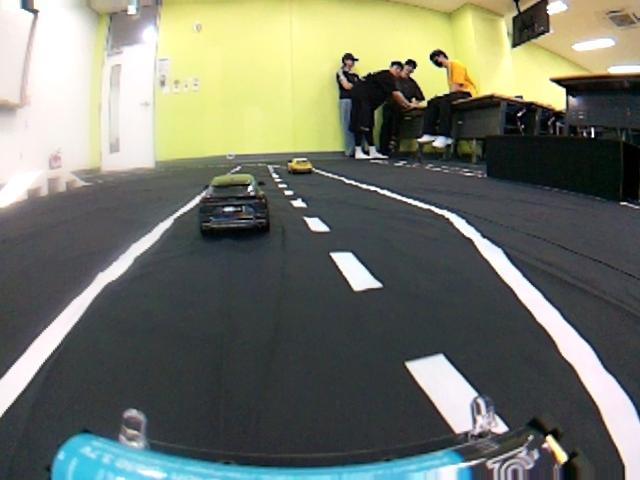car: (200, 173, 271, 237), (291, 158, 313, 175)
straight: (4, 197, 640, 480)
